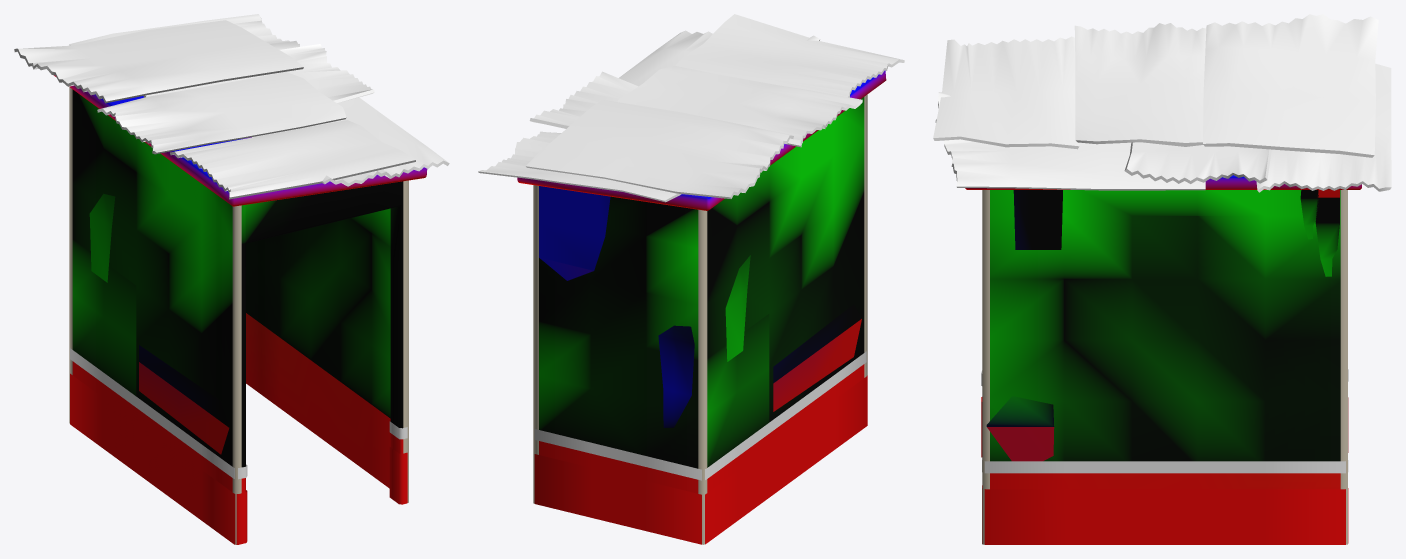
The model's file is ExtraBuilding_F_Snaps004.FBX.
3 renders of one model, left to right at view 1: azimuth 30°, elevation 25°; view 2: azimuth 150°, elevation 25°; view 3: azimuth 270°, elevation 25°, orthographic. The views are drawn at different scales.
Visible parts, largest first — view 1: Geometry_ExtraBuilding_F_LOD00, Geometry_Decal_B_LOD00, Geometry_Decal_C_LOD00, Geometry_Decal_A_LOD00; view 2: Geometry_ExtraBuilding_F_LOD00, Geometry_Decal_B_LOD00, Geometry_Decal_C_LOD00, Geometry_Decal_A_LOD00; view 3: Geometry_ExtraBuilding_F_LOD00, Geometry_Decal_B_LOD00, Geometry_Decal_C_LOD00, Geometry_Decal_A_LOD00.
Part boxes in pixels (box(x1,y1,x2,y2)): Geometry_ExtraBuilding_F_LOD00: box(14, 14, 449, 492); Geometry_Decal_B_LOD00: box(70, 348, 407, 544); Geometry_Decal_C_LOD00: box(89, 193, 229, 454); Geometry_Decal_A_LOD00: box(69, 87, 408, 544); Geometry_ExtraBuilding_F_LOD00: box(478, 14, 904, 493); Geometry_Decal_B_LOD00: box(534, 351, 867, 544); Geometry_Decal_C_LOD00: box(539, 186, 861, 427); Geometry_Decal_A_LOD00: box(533, 94, 867, 544); Geometry_ExtraBuilding_F_LOD00: box(933, 14, 1391, 489); Geometry_Decal_B_LOD00: box(981, 369, 1348, 544); Geometry_Decal_C_LOD00: box(986, 190, 1339, 461); Geometry_Decal_A_LOD00: box(982, 190, 1347, 544).
Size of what is drawn, in the model's own units: 223 by 315 by 314.
